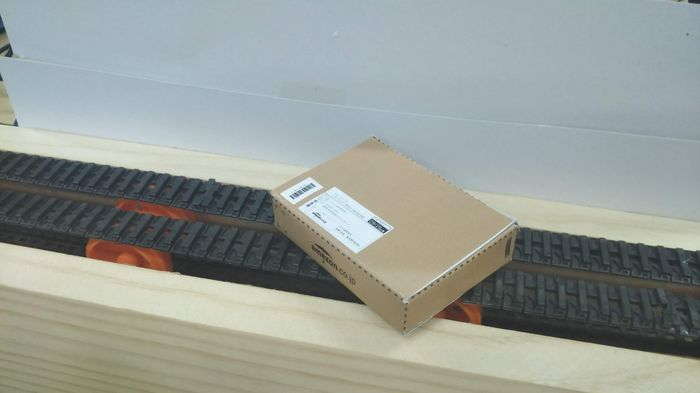box2: (268, 133, 521, 336)
